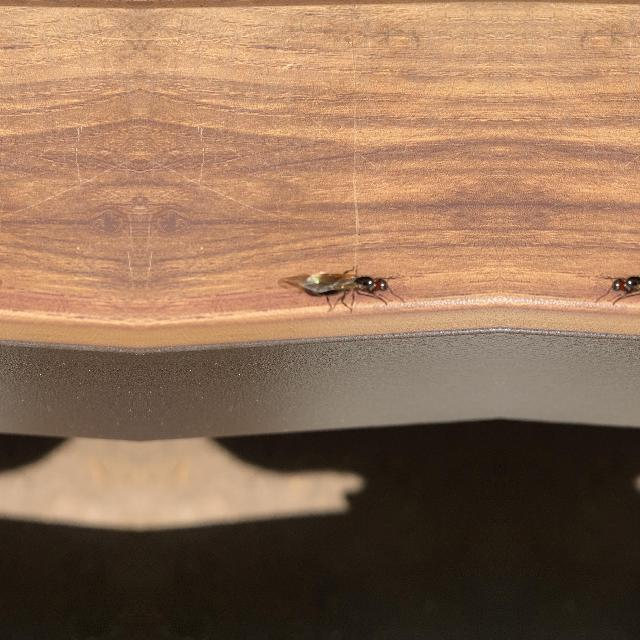Crematogaster: (276, 264, 398, 310), (602, 264, 640, 310)
